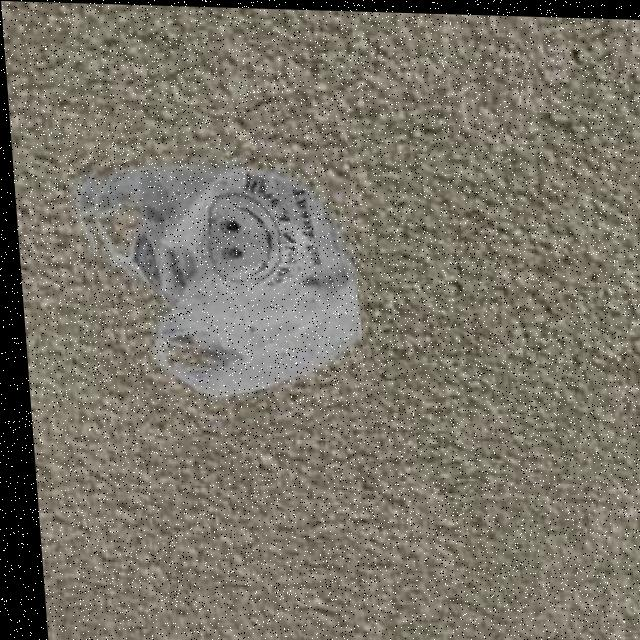litter: (65, 94, 363, 439)
